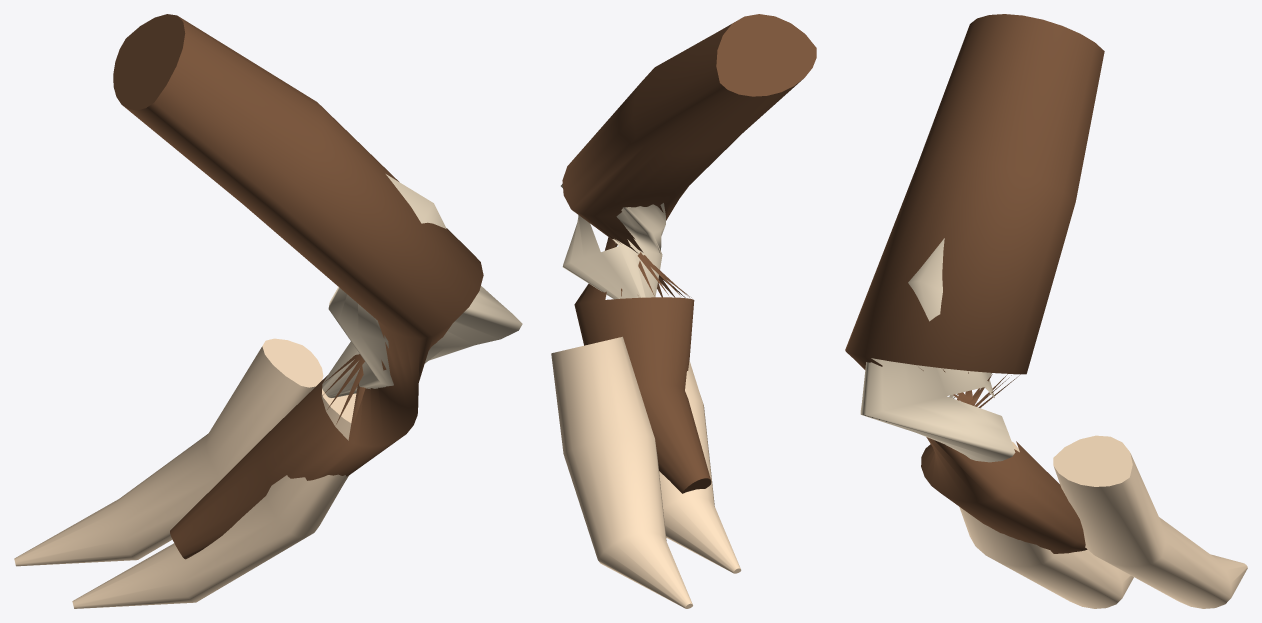
Rendered from transporter_grip.glb.
3 views of the same model, side by side, from view 1: azimuth 30°, elevation 25°; view 2: azimuth 150°, elevation 25°; view 3: azimuth 270°, elevation 25° (orthographic). The views are drawn at different scales.
Parts seen in each view (by area): view 1: transporter_grip; view 2: transporter_grip; view 3: transporter_grip.
Boxes of the visible parts, box(x1,y1,x2,y2) form: transporter_grip: box(14, 14, 522, 608); transporter_grip: box(551, 14, 816, 608); transporter_grip: box(845, 14, 1247, 608).
Size of the model in its own units: 0.4792 by 0.8836 by 0.5591.
